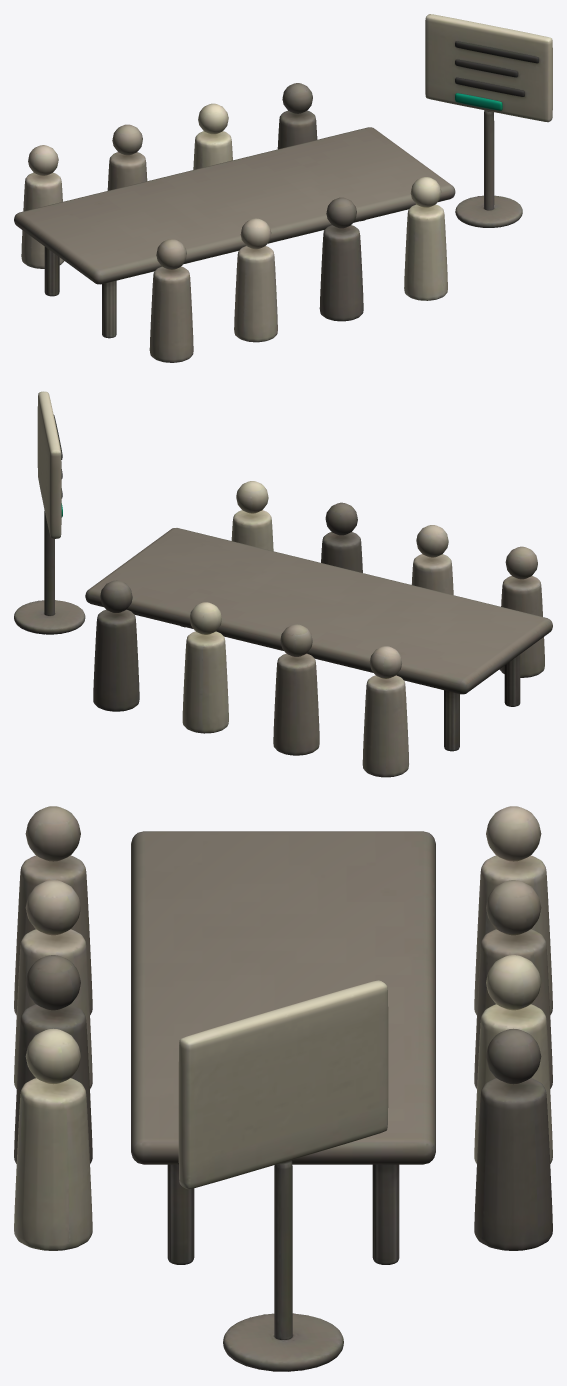
The model's file is table.glb.
3 views of the same model, one above another, from view 1: azimuth 30°, elevation 25°; view 2: azimuth 150°, elevation 25°; view 3: azimuth 270°, elevation 25° (orthographic). The views are drawn at different scales.
Parts seen in each view (by area): view 1: Table_mesh, Board_mesh, Figure_4_mesh, Figure_2_mesh, Figure_1_mesh, Figure_3_mesh, Figure_5_mesh, Figure_7_mesh, Figure_8_mesh, Figure_6_mesh; view 2: Table_mesh, Board_mesh, Figure_6_mesh, Figure_8_mesh, Figure_7_mesh, Figure_5_mesh, Figure_1_mesh, Figure_4_mesh, Figure_3_mesh, Figure_2_mesh; view 3: Table_mesh, Board_mesh, Figure_4_mesh, Figure_8_mesh, Figure_2_mesh, Figure_6_mesh, Figure_1_mesh, Figure_5_mesh, Figure_3_mesh, Figure_7_mesh.
Boxes of the visible parts, x1,y1,x2,y2 form: Table_mesh: [14, 127, 455, 338]; Board_mesh: [425, 14, 552, 227]; Figure_4_mesh: [404, 177, 447, 300]; Figure_2_mesh: [234, 218, 277, 342]; Figure_1_mesh: [149, 239, 193, 362]; Figure_3_mesh: [319, 197, 363, 321]; Figure_5_mesh: [21, 145, 64, 268]; Figure_7_mesh: [193, 103, 232, 169]; Figure_8_mesh: [277, 83, 317, 149]; Figure_6_mesh: [107, 124, 147, 190]; Table_mesh: [85, 528, 552, 751]; Board_mesh: [14, 391, 85, 634]; Figure_6_mesh: [273, 624, 319, 755]; Figure_8_mesh: [93, 580, 139, 711]; Figure_7_mesh: [182, 602, 228, 733]; Figure_5_mesh: [362, 646, 408, 777]; Figure_1_mesh: [499, 546, 544, 677]; Figure_4_mesh: [231, 481, 273, 551]; Figure_3_mesh: [321, 502, 362, 572]; Figure_2_mesh: [411, 525, 453, 594]; Table_mesh: [131, 831, 435, 1264]; Board_mesh: [178, 980, 388, 1371]; Figure_4_mesh: [14, 1028, 92, 1250]; Figure_8_mesh: [474, 1028, 552, 1250]; Figure_2_mesh: [14, 880, 92, 1088]; Figure_6_mesh: [474, 880, 552, 1088]; Figure_1_mesh: [14, 806, 92, 1014]; Figure_5_mesh: [474, 806, 552, 1014]; Figure_3_mesh: [14, 955, 92, 1163]; Figure_7_mesh: [474, 955, 552, 1163].
Size of the model in its own units: 3.53 by 1.35 by 1.94.
1 material, 1 textured.
